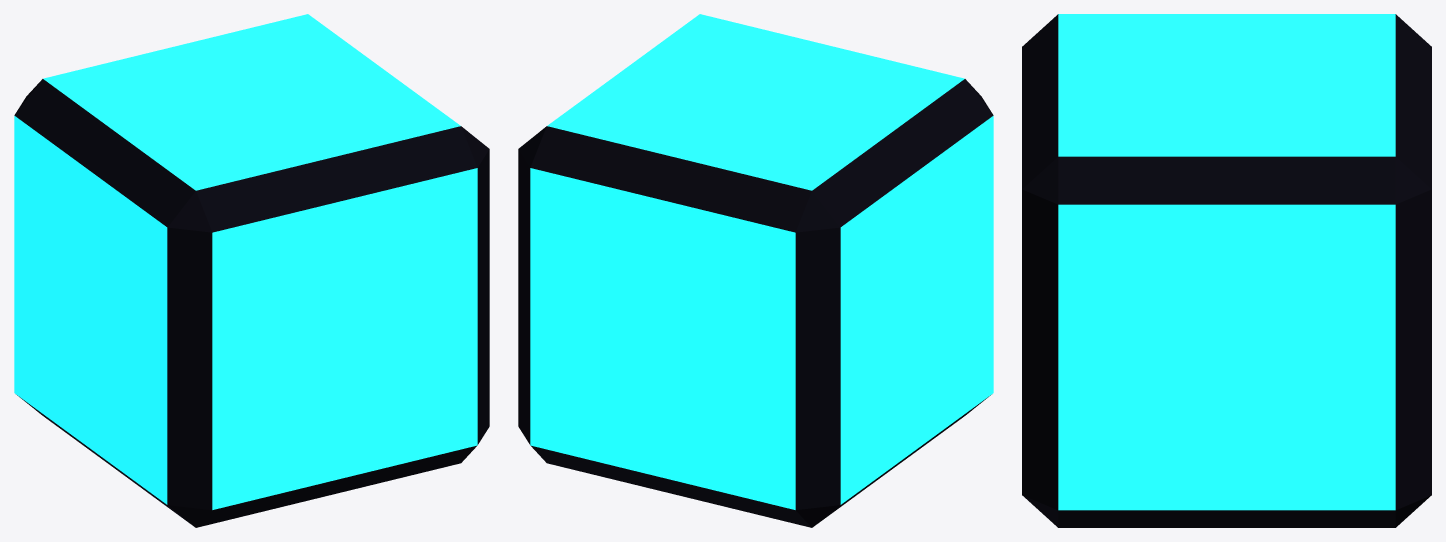
Rendered from ammo.glb.
The picture shows the model from 3 angles, left to right: view 1: azimuth 30°, elevation 25°; view 2: azimuth 150°, elevation 25°; view 3: azimuth 270°, elevation 25°; orthographic projection. The views are drawn at different scales.
Parts seen in each view (by area): view 1: Cube; view 2: Cube; view 3: Cube.
Part boxes in pixels (left/top/right/bottom): Cube: left=14, top=14, right=489, bottom=527; Cube: left=518, top=14, right=993, bottom=527; Cube: left=1022, top=14, right=1431, bottom=527.
Bounding box in the file's own units: 1.66 × 1.66 × 1.66.
